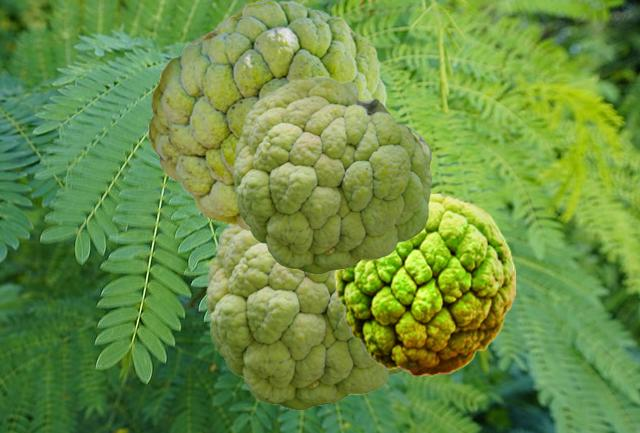atis: (148, 0, 385, 231), (233, 76, 431, 273), (206, 224, 405, 409), (333, 192, 514, 376)
